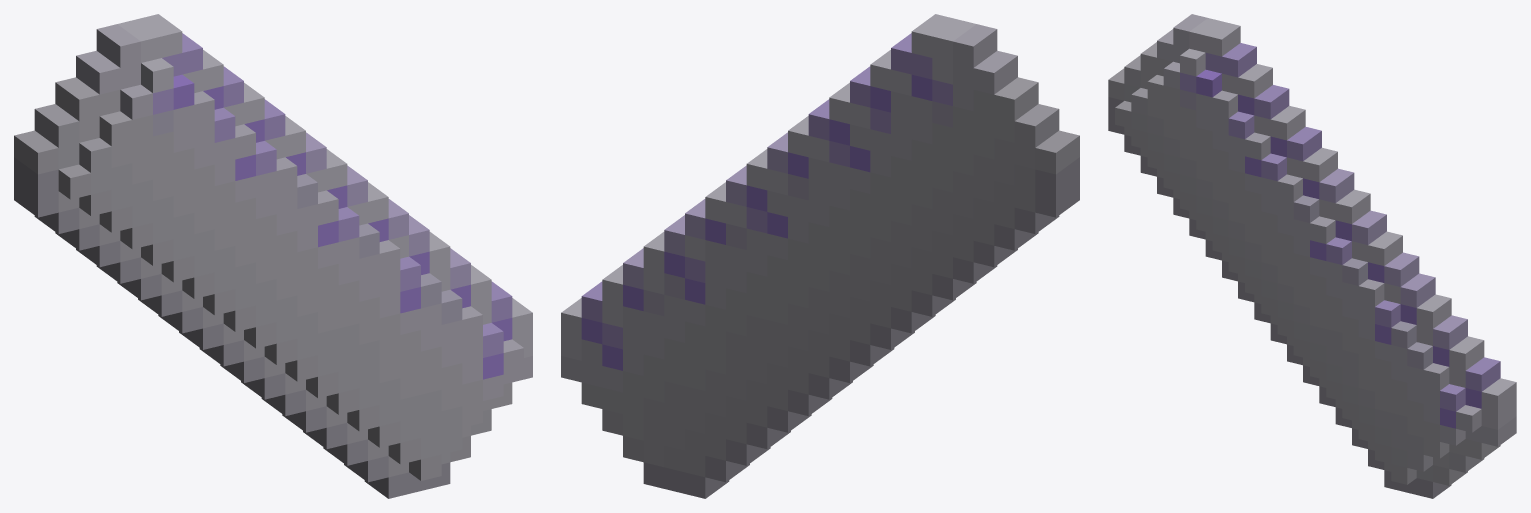
The model's file is ruler.glb.
The picture shows the model from 3 angles, left to right: view 1: azimuth 30°, elevation 25°; view 2: azimuth 150°, elevation 25°; view 3: azimuth 330°, elevation 25°; orthographic projection. The views are drawn at different scales.
Parts seen in each view (by area): view 1: prop; view 2: prop; view 3: prop.
Boxes of the visible parts, x1,y1,x2,y2 form: prop: (14, 14, 532, 498); prop: (561, 14, 1079, 498); prop: (1108, 14, 1516, 498).
Bounding box in the file's own units: 16 × 16 × 2.
